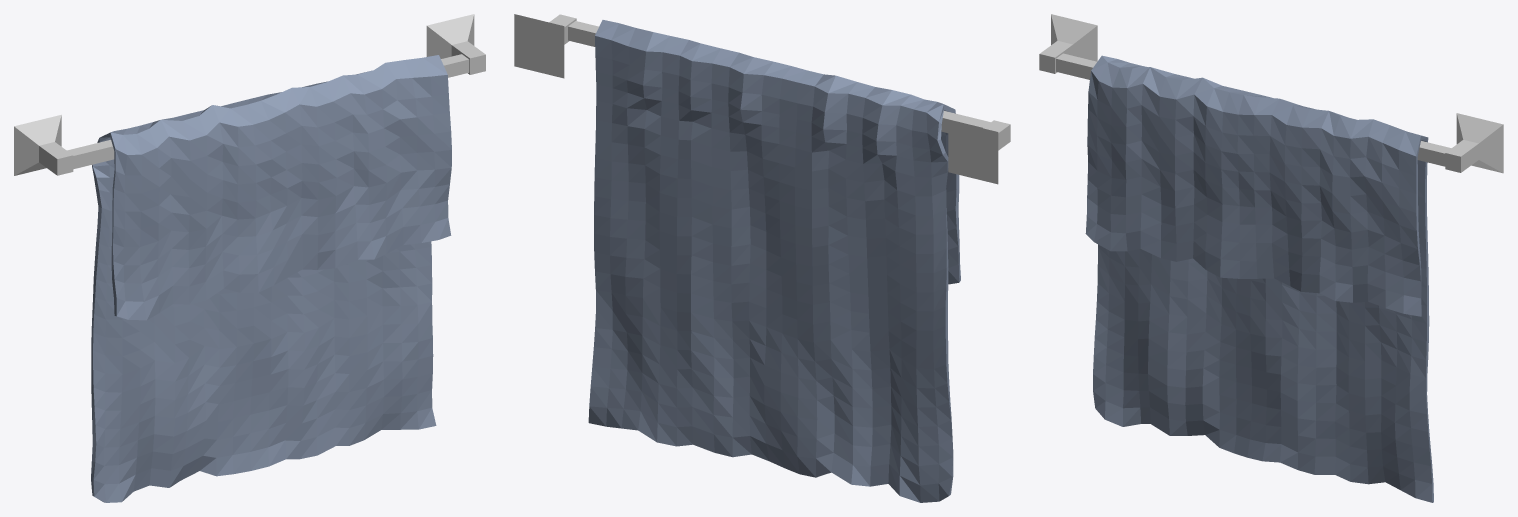
File: sweethome3d-blendswap-cc-0-towel-rack-58.glb
The picture shows the model from 3 angles, left to right: view 1: azimuth 30°, elevation 25°; view 2: azimuth 150°, elevation 25°; view 3: azimuth 330°, elevation 25°; orthographic projection. The views are drawn at different scales.
Visible parts, largest first — view 1: towel_beneath_window_Plane.013, towel_bar_Cube.016; view 2: towel_beneath_window_Plane.013, towel_bar_Cube.016; view 3: towel_beneath_window_Plane.013, towel_bar_Cube.016.
Part boxes in pixels (box(x1,y1,x2,y2)): towel_beneath_window_Plane.013: box(91, 55, 451, 502); towel_bar_Cube.016: box(14, 14, 485, 175); towel_beneath_window_Plane.013: box(588, 20, 960, 502); towel_bar_Cube.016: box(514, 14, 1010, 184); towel_beneath_window_Plane.013: box(1085, 55, 1433, 502); towel_bar_Cube.016: box(1039, 14, 1503, 173).
Size of the model in its own units: 59.6 by 47.85 by 8.13.
